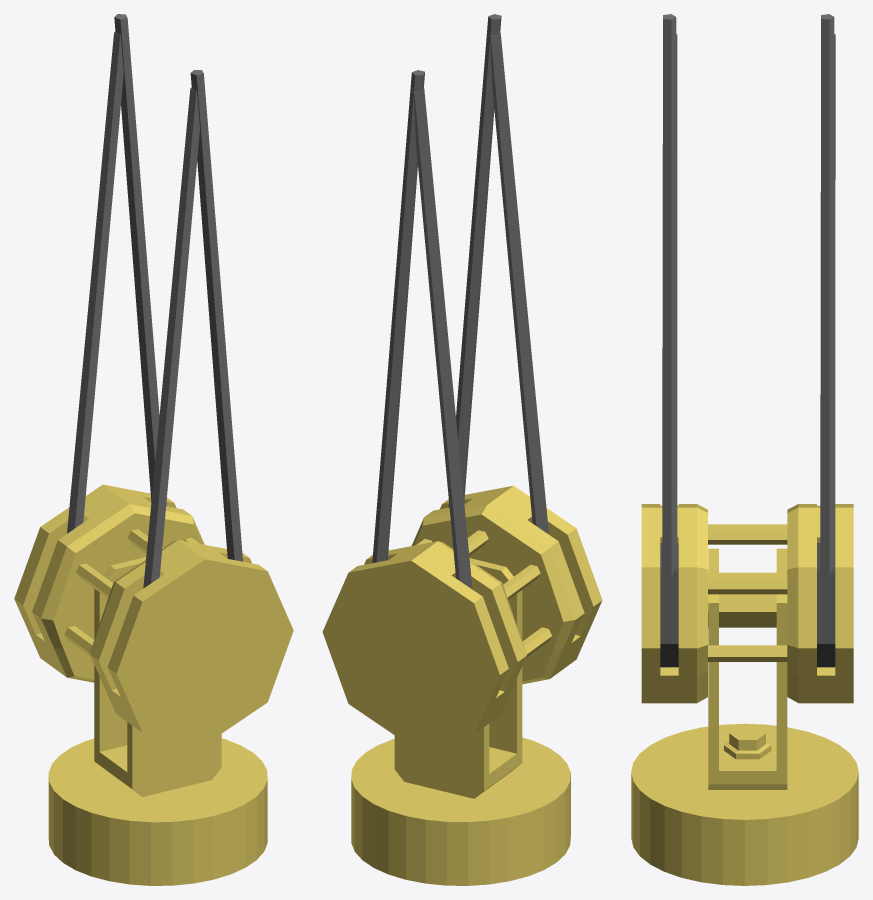
The model's file is Magnethook.fbx.
The picture shows the model from 3 angles, left to right: view 1: azimuth 30°, elevation 25°; view 2: azimuth 150°, elevation 25°; view 3: azimuth 270°, elevation 25°; orthographic projection. The views are drawn at different scales.
Visible parts, largest first — view 1: Crane_Cylinder.007, Cylinder; view 2: Crane_Cylinder.007, Cylinder; view 3: Crane_Cylinder.007, Cylinder.
Boxes of the visible parts, x1,y1,x2,y2 form: Crane_Cylinder.007: (14,14,293,796); Cylinder: (48,738,267,885); Crane_Cylinder.007: (322,14,602,798); Cylinder: (351,737,570,885); Crane_Cylinder.007: (641,14,853,789); Cylinder: (631,723,858,885).
Size of the model in its own units: 92.99 by 371 by 92.99.
